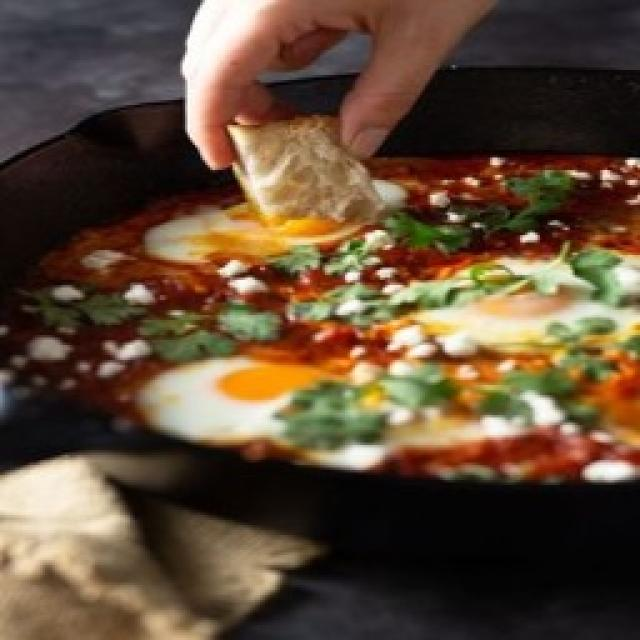Chakchouka: (0, 155, 640, 488)
